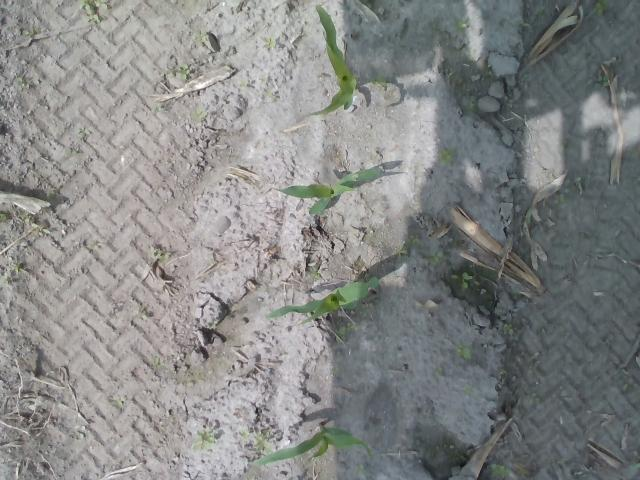Maize: (267, 167, 384, 216), (263, 275, 380, 324), (312, 2, 359, 120), (254, 422, 373, 466)
Weeds: (232, 426, 272, 450), (0, 262, 22, 287), (78, 0, 100, 23), (451, 271, 471, 290), (144, 246, 167, 262), (194, 432, 214, 449), (335, 323, 358, 336), (174, 62, 190, 79), (491, 462, 508, 478), (591, 0, 609, 15), (12, 77, 30, 90), (456, 346, 472, 360), (437, 148, 453, 162), (367, 74, 385, 86), (190, 110, 208, 122), (194, 31, 207, 45), (264, 35, 276, 48), (598, 74, 610, 87), (432, 251, 444, 262), (409, 233, 422, 243), (502, 324, 514, 333)
